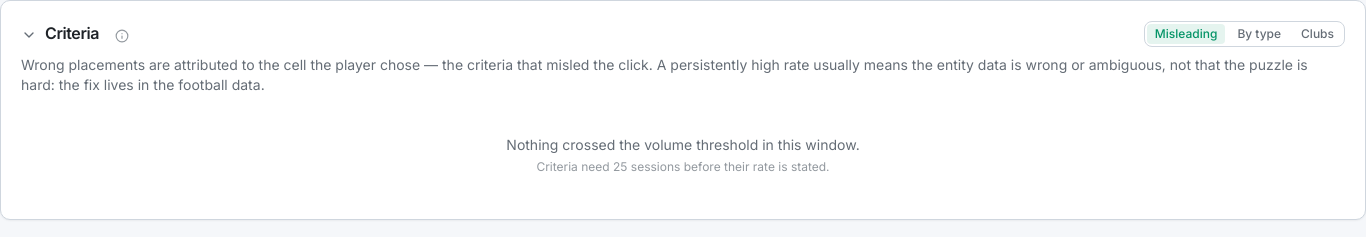
Test: GridCriteria tabs › shows types and clubs as tabs of the same card
Click the button "By type" at (1259, 34), box x1=1229 y1=24 x2=1289 y2=44
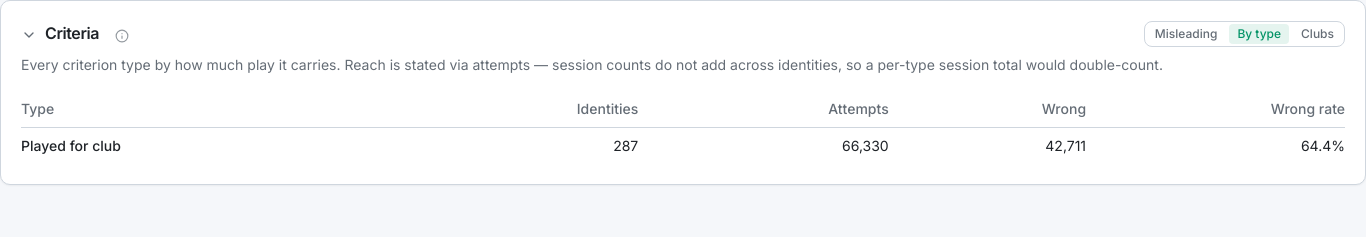
expect the text "66,330" is shown: met, box x1=654 y1=128 x2=905 y2=164
Click the button "Clubs" at (1318, 34), box x1=1293 y1=24 x2=1342 y2=44
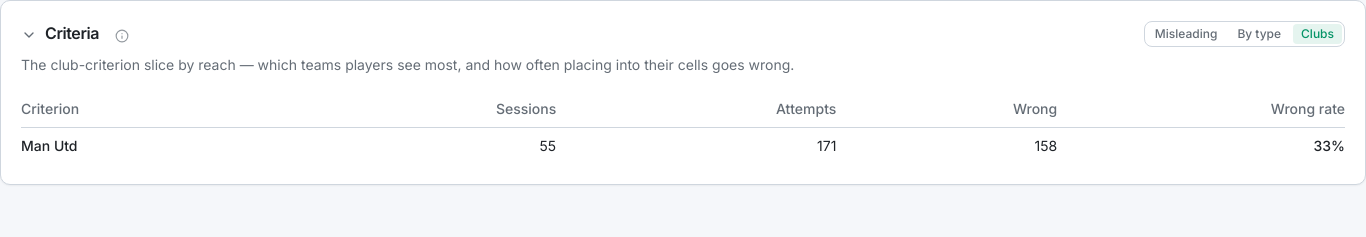
expect the text "Man Utd" is shown: met, box x1=21 y1=128 x2=293 y2=164
expect the text "Played for club" is gone: met
